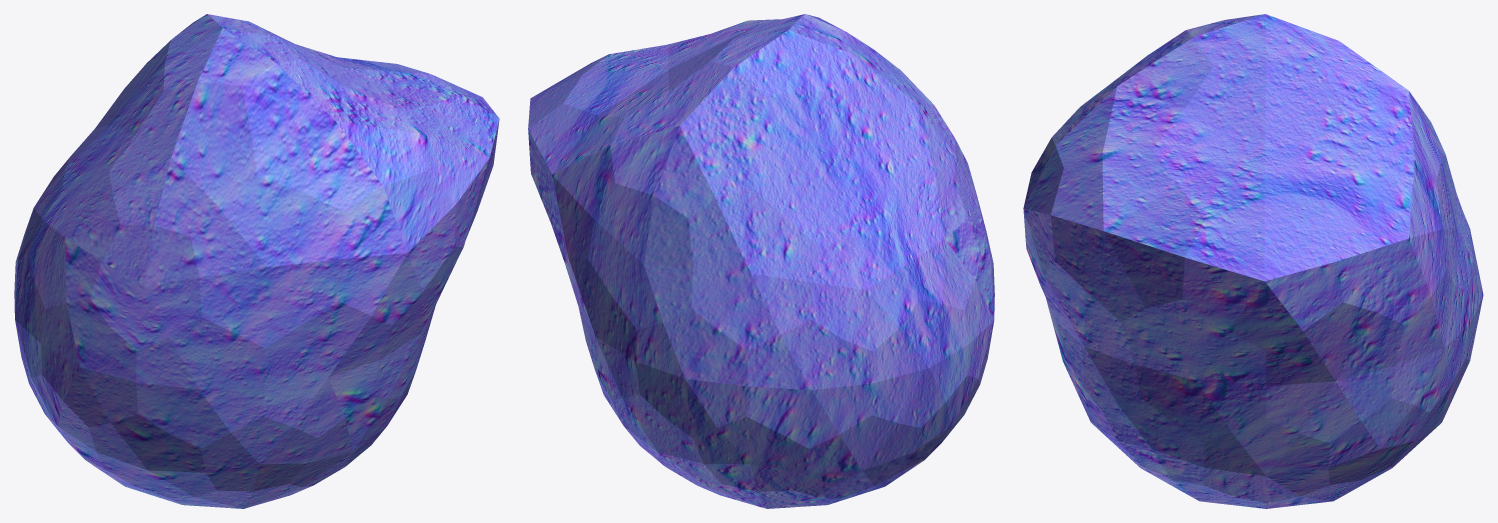
Rendered from mediumasteroid4_LOD3.fbx.
The picture shows the model from 3 angles, left to right: view 1: azimuth 30°, elevation 25°; view 2: azimuth 150°, elevation 25°; view 3: azimuth 270°, elevation 25°; orthographic projection. The views are drawn at different scales.
Parts seen in each view (by area): view 1: Icosphere; view 2: Icosphere; view 3: Icosphere.
Part boxes in pixels (<box>): Icosphere: <box>14,14,499,508</box>; Icosphere: <box>528,14,994,508</box>; Icosphere: <box>1023,14,1483,508</box>.
Size of the model in its own units: 230 by 231 by 202.
